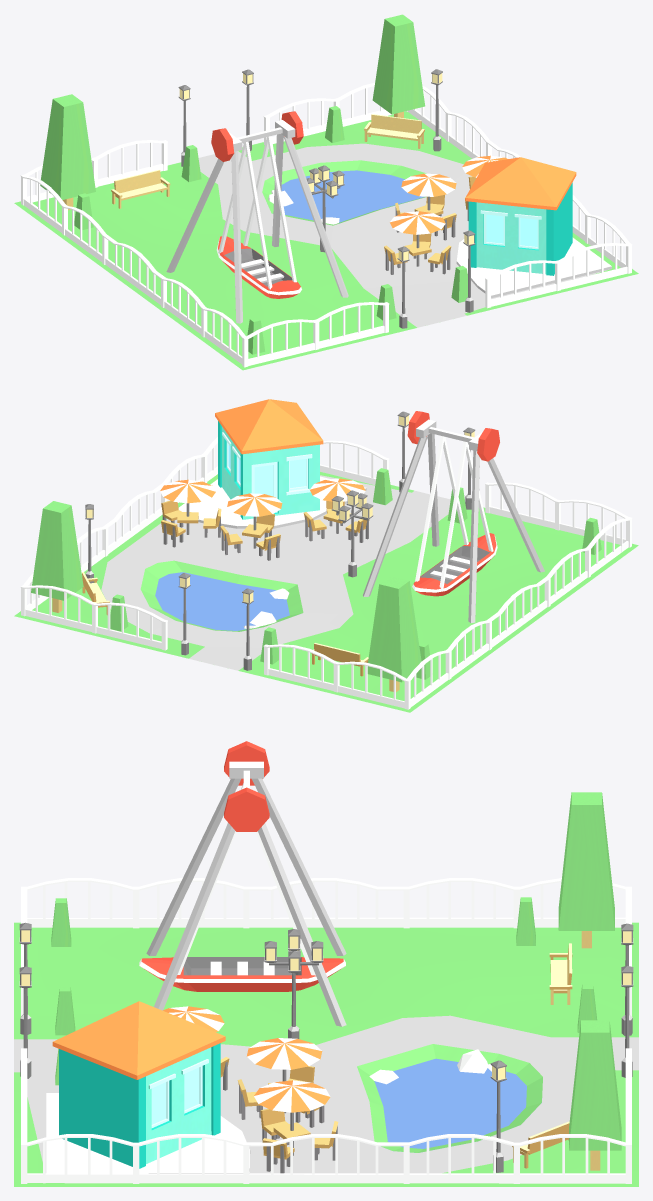
Rendered from park.004.glb.
3 renders of one model, top to bottom at view 1: azimuth 30°, elevation 25°; view 2: azimuth 150°, elevation 25°; view 3: azimuth 270°, elevation 25°, orthographic. The views are drawn at different scales.
Visible parts, largest first — view 1: park.004(Clone); view 2: park.004(Clone); view 3: park.004(Clone).
Part boxes in pixels (left/top/right/bottom): park.004(Clone): left=14, top=14, right=638, bottom=370; park.004(Clone): left=14, top=399, right=638, bottom=712; park.004(Clone): left=14, top=741, right=638, bottom=1186.
Size of the model in its own units: 16 by 7.34 by 16.
Materials: 1 (1 with a texture image).
